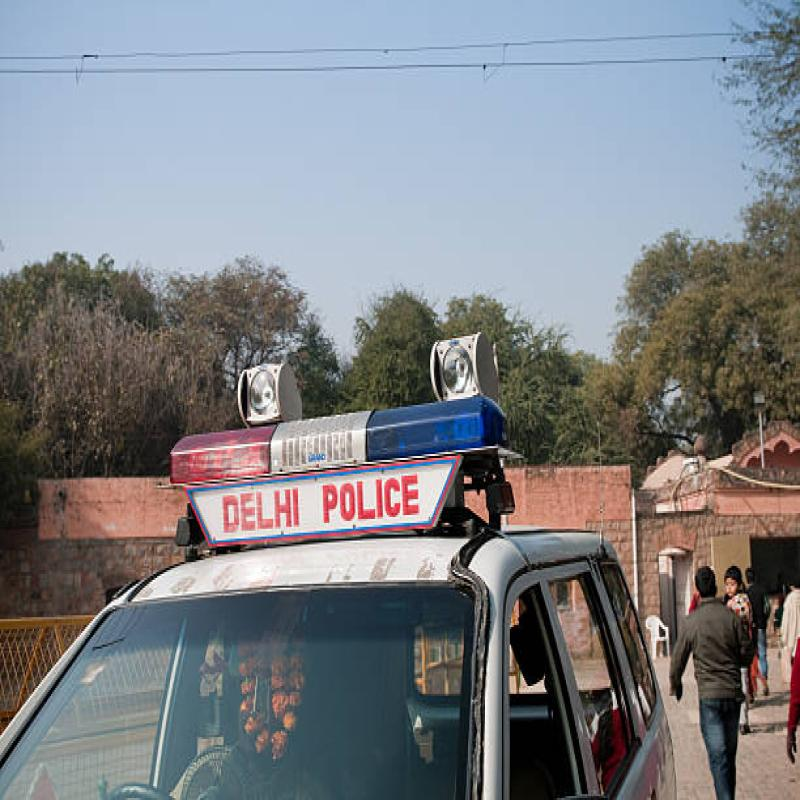AmbulanceSiren: (138, 382, 524, 496)
